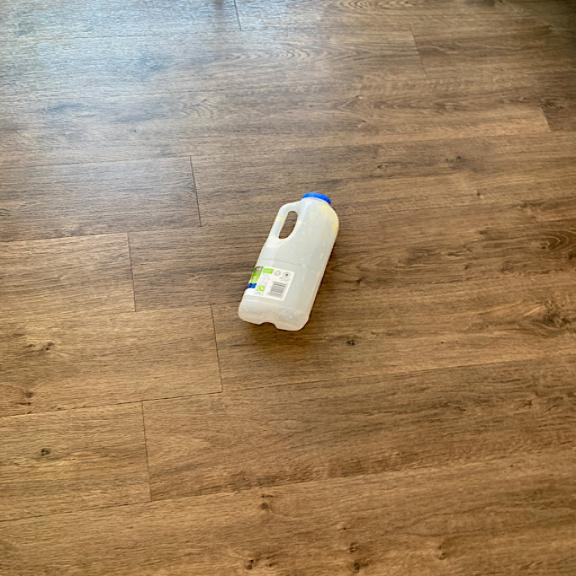Plastik: (233, 192, 343, 333)
